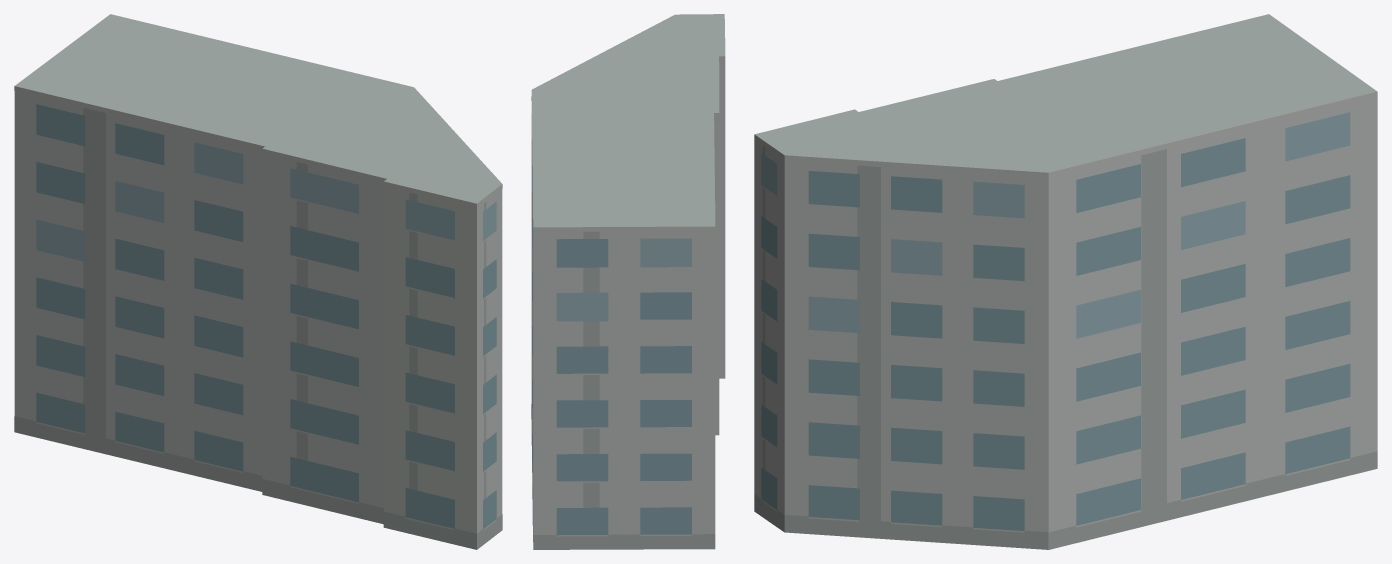
The model's file is survey-upis-32944067.glb.
The picture shows the model from 3 angles, left to right: view 1: azimuth 30°, elevation 25°; view 2: azimuth 150°, elevation 25°; view 3: azimuth 270°, elevation 25°; orthographic projection. The views are drawn at different scales.
Visible parts, largest first — view 1: survey-upis-32944067.tmp; view 2: survey-upis-32944067.tmp; view 3: survey-upis-32944067.tmp.
Part boxes in pixels (bbox=[...]): survey-upis-32944067.tmp: bbox=[14, 14, 502, 549]; survey-upis-32944067.tmp: bbox=[531, 14, 725, 549]; survey-upis-32944067.tmp: bbox=[754, 14, 1377, 549].
Size of the model in its own units: 15.17 by 16.8 by 25.17.
